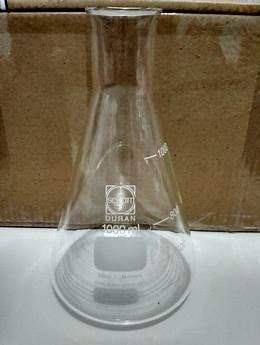Titrarion: (46, 15, 202, 325)
